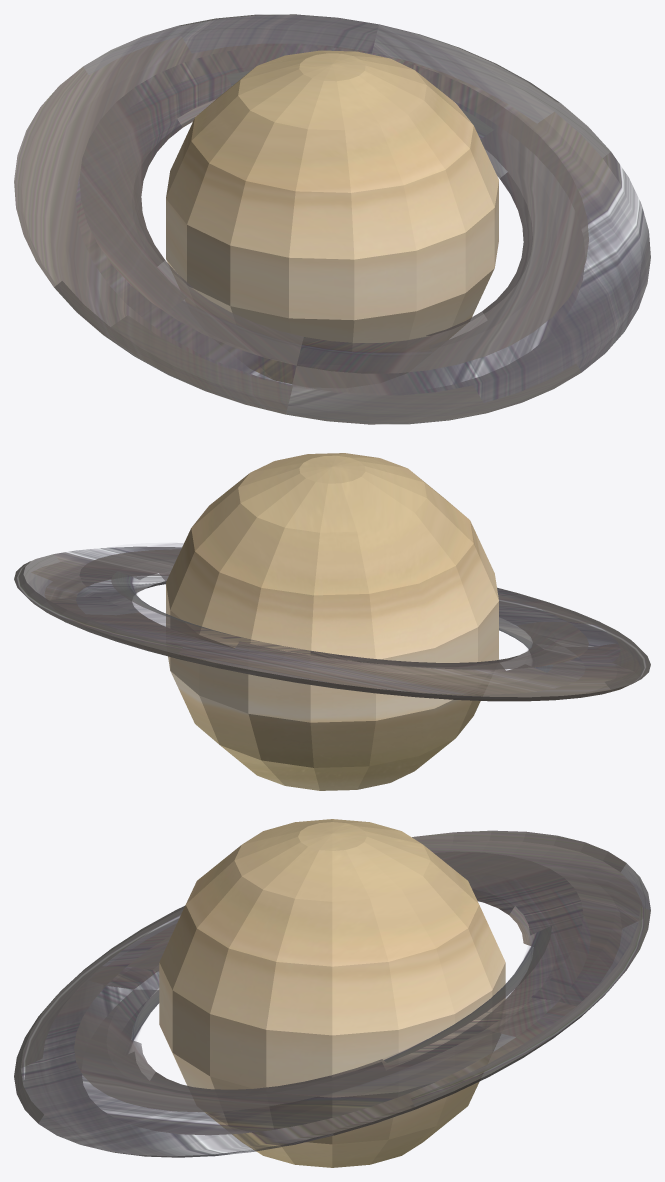
File: Saturn.glb
3 views of the same model, one above another, from view 1: azimuth 30°, elevation 25°; view 2: azimuth 150°, elevation 25°; view 3: azimuth 270°, elevation 25° (orthographic). The views are drawn at different scales.
Visible parts, largest first — view 1: Torus, Sphere; view 2: Sphere, Torus; view 3: Sphere, Torus.
Part boxes in pixels (bbox=[...]): Torus: bbox=[14, 14, 650, 424]; Sphere: bbox=[166, 50, 498, 383]; Sphere: bbox=[166, 453, 498, 790]; Torus: bbox=[14, 543, 650, 701]; Sphere: bbox=[159, 819, 505, 1167]; Torus: bbox=[14, 830, 650, 1157].
Size of the model in its own units: 3.75 by 2 by 3.61.
2 materials, 2 textured.
